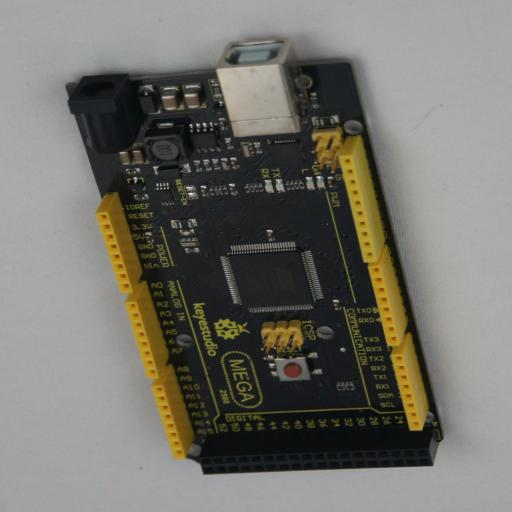Arduino Mega 2560 -Black and Yellow-: (65, 40, 444, 475)
